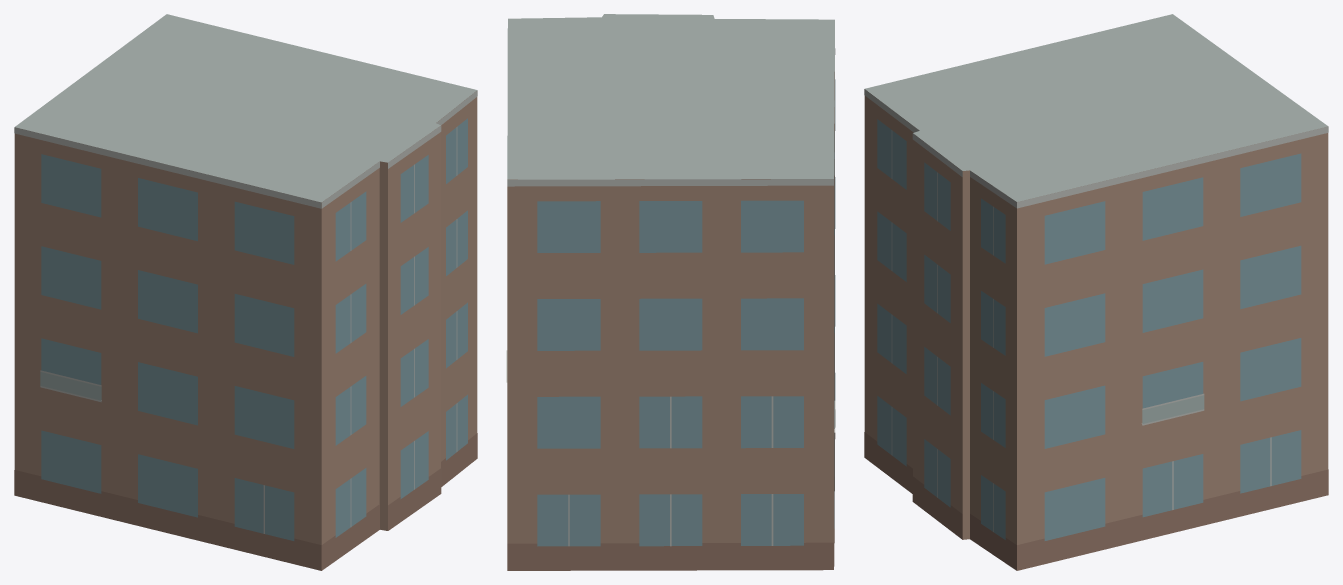
File: survey-upis-32967927.glb
3 views of the same model, side by side, from view 1: azimuth 30°, elevation 25°; view 2: azimuth 150°, elevation 25°; view 3: azimuth 270°, elevation 25° (orthographic). The views are drawn at different scales.
Parts seen in each view (by area): view 1: survey-upis-32967927.tmp; view 2: survey-upis-32967927.tmp; view 3: survey-upis-32967927.tmp.
Part boxes in pixels (x1=…): survey-upis-32967927.tmp: x1=14, y1=14, x2=477, y2=570; survey-upis-32967927.tmp: x1=506, y1=14, x2=835, y2=570; survey-upis-32967927.tmp: x1=864, y1=14, x2=1328, y2=570.
Bounding box in the file's own units: 15.44 × 14.1 × 16.09.
